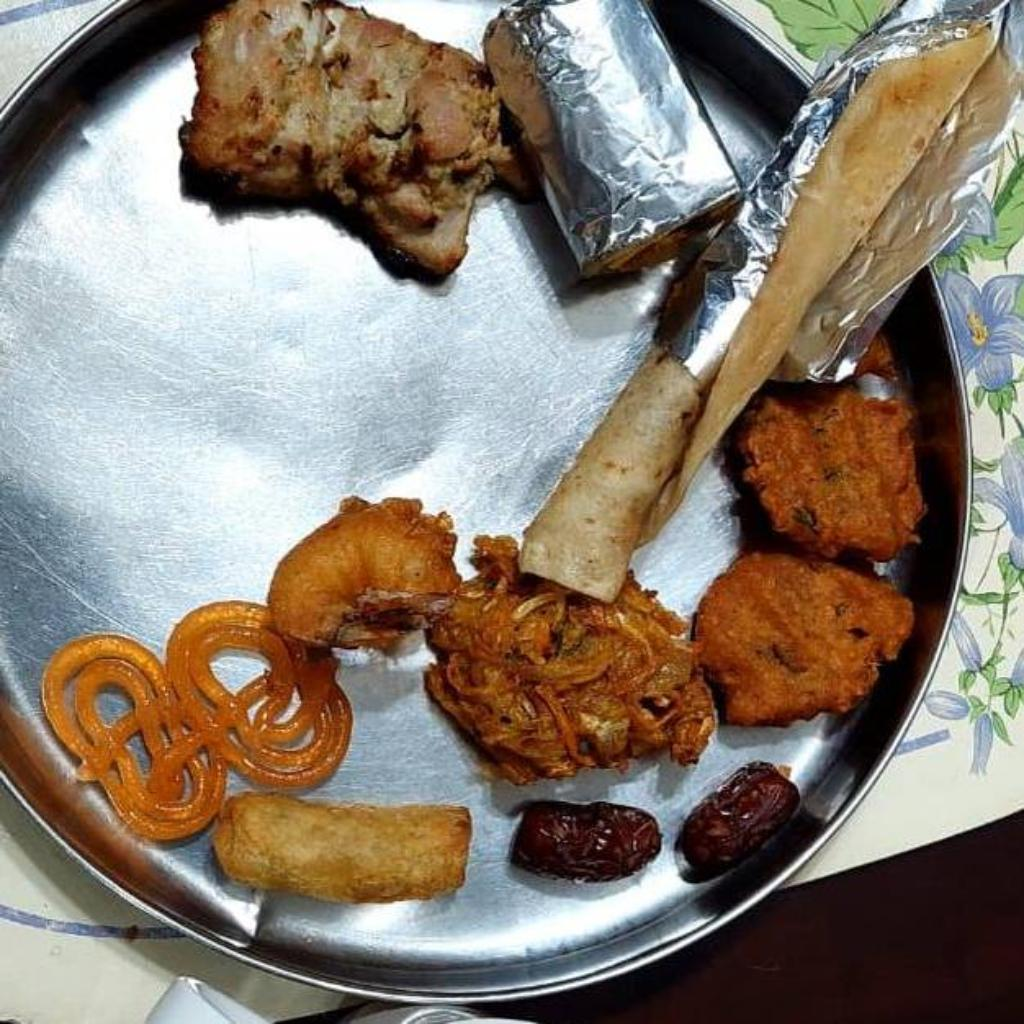chicken: (180, 0, 532, 276)
chop-alu: (267, 497, 458, 651)
dates: (676, 762, 798, 880), (510, 800, 661, 882)
jilapi: (41, 604, 352, 839)
piyaju: (694, 384, 924, 725), (424, 537, 715, 780)
roll: (520, 31, 990, 600), (484, 0, 743, 276), (211, 792, 471, 903)
